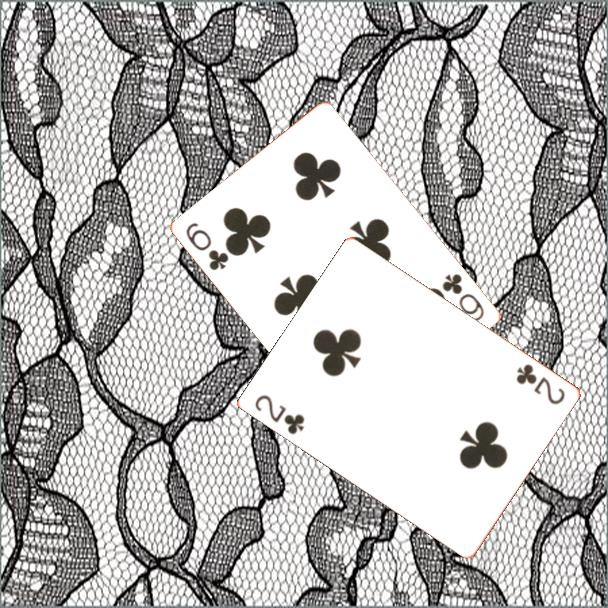c02: (513, 360, 569, 407), (252, 391, 308, 437)
c06: (439, 270, 488, 325), (183, 219, 232, 273)
